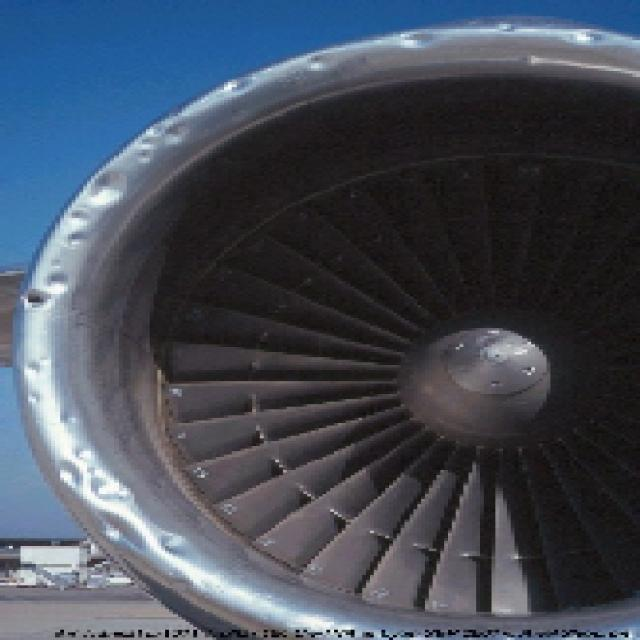dent: (57, 448, 215, 600), (81, 169, 131, 214)
